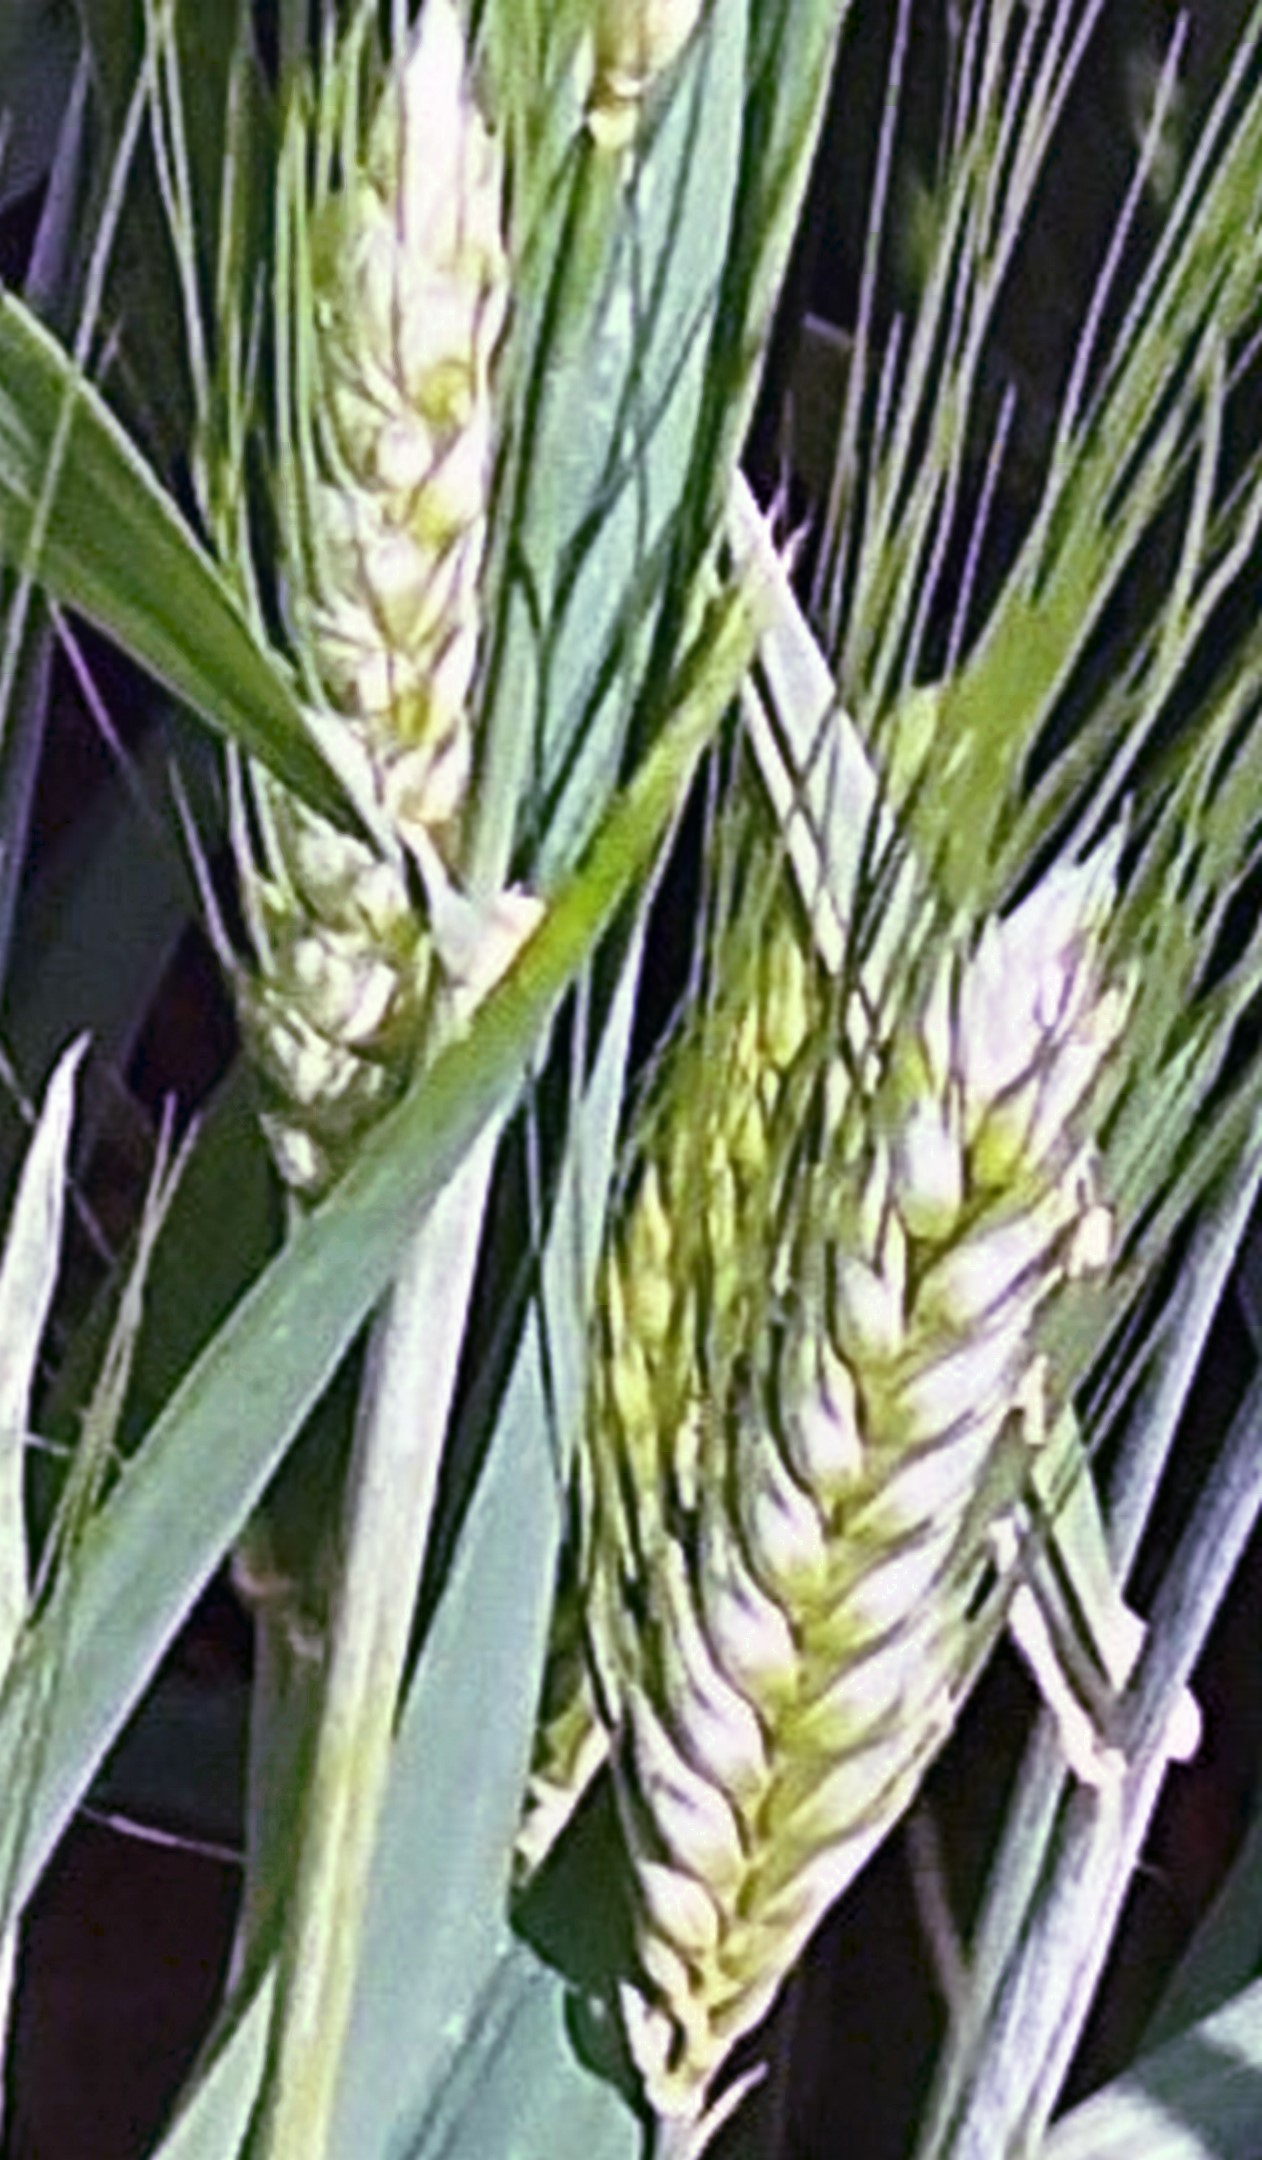Healthy Wheat: (634, 933, 1131, 2074)
